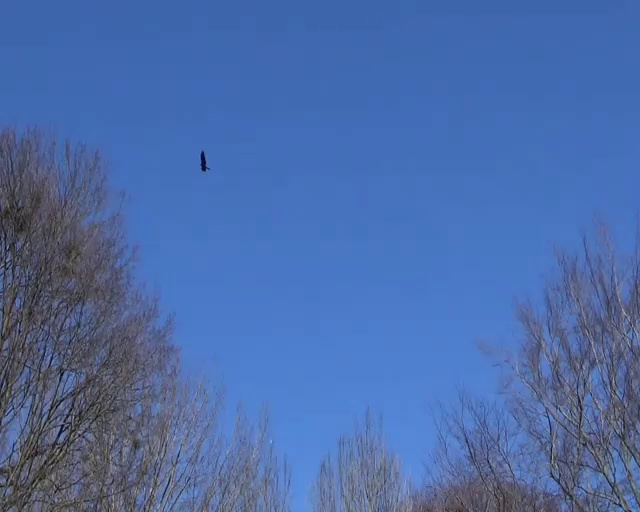BIRD: (200, 150, 210, 172)
